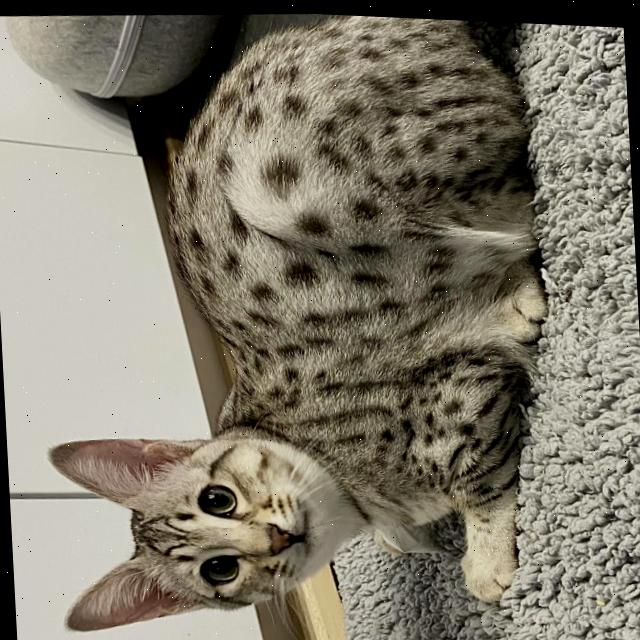Savannah: (20, 1, 569, 640)
